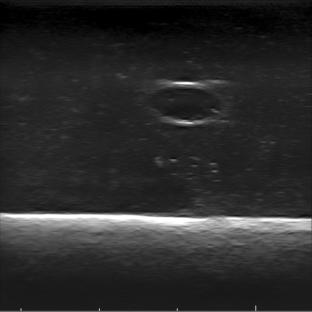vessel: (148, 81, 226, 126)
